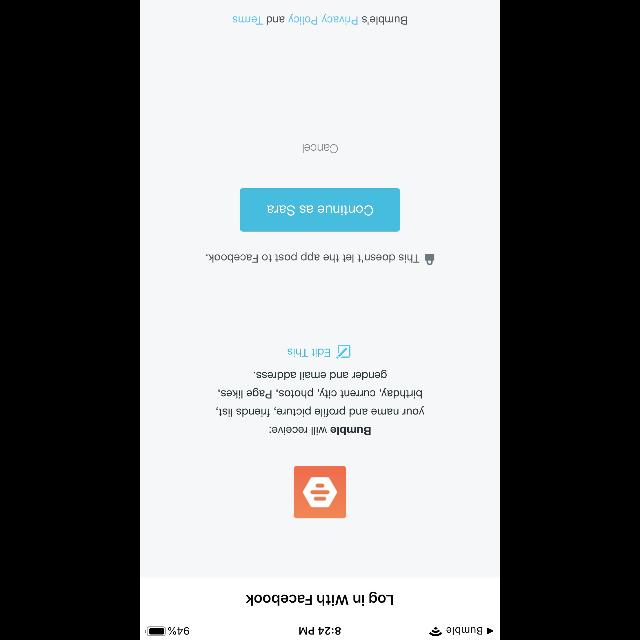icon: (336, 346, 350, 358), (426, 254, 434, 266)
image: (294, 466, 346, 518)
text: (216, 369, 424, 416), (206, 252, 420, 262), (245, 592, 392, 606), (233, 13, 407, 24), (270, 427, 370, 435), (302, 144, 338, 154), (288, 349, 330, 357)
textbutton: (240, 188, 400, 232)
uppertaskbar: (140, 626, 500, 640)
